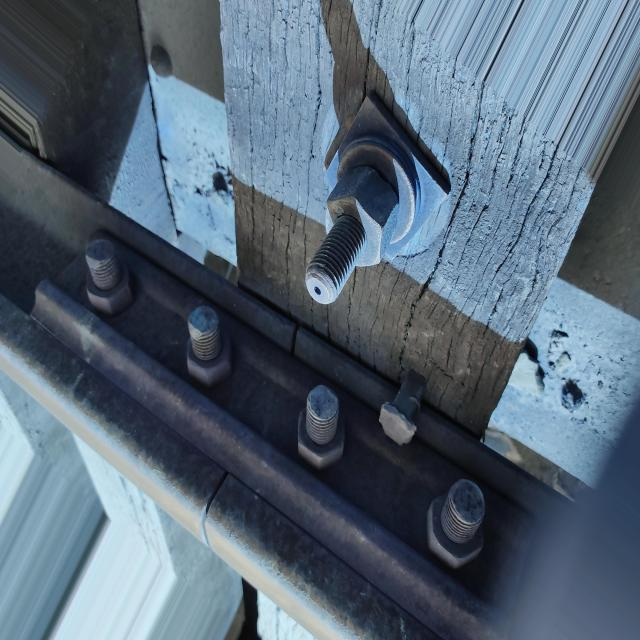Good Fasteners: (305, 94, 450, 303), (106, 259, 114, 266)
Good Joint: (31, 236, 547, 639)
